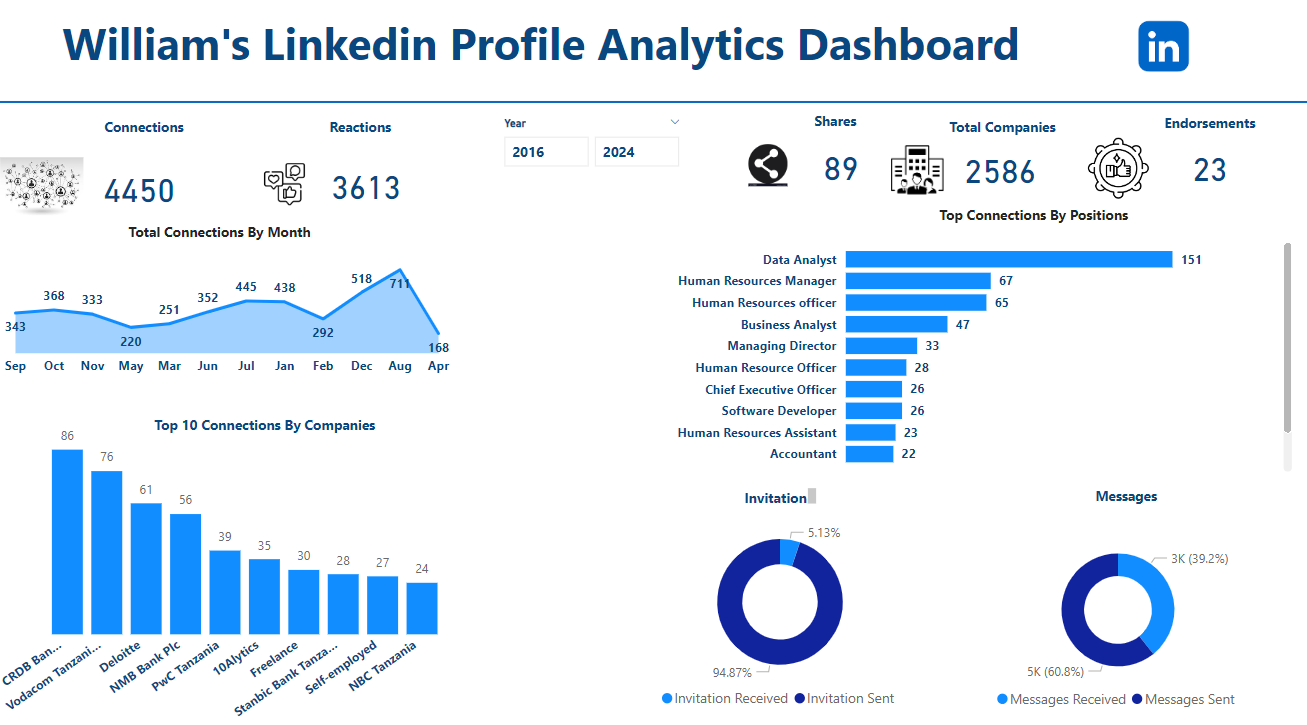

The page's visual inventory and layout, read from the dashboard file:
{"tool":"powerbi","page":{"name":"Page 1","canvas":[1280,720],"ordinal":0},"visuals":[{"type":"card","fields":{"Values":["All Measures.Total connetion"]},"box":[91.4,168.3,97.3,44.7],"z":0},{"type":"textbox","box":[0,15.6,1062.1,74.9],"z":1000},{"type":"textbox","box":[320,116.7,81.7,37.9],"z":2000},{"type":"shape","box":[0,90.5,1280,33.1],"z":3000},{"type":"textbox","box":[101.2,116.7,97.3,38.9],"z":4000},{"type":"image","box":[0,150.8,91.4,79.8],"z":5000},{"type":"card","fields":{"Values":["All Measures.Total Reaction"]},"box":[315.1,162.4,91.4,50.6],"z":6000},{"type":"image","box":[247.1,161.5,68.1,50.6],"z":7000},{"type":"image","box":[1007.7,6.8,258.7,92.4],"z":8000},{"type":"card","fields":{"Values":["All Measures.Total company"]},"box":[931.8,146.9,91.4,50.6],"z":9000},{"type":"card","fields":{"Values":["All Measures.Total share"]},"box":[777.1,144,91.4,50.6],"z":10000},{"type":"textbox","box":[923,116.7,121.6,32.1],"z":11000},{"type":"textbox","box":[791.7,110.9,62.2,36],"z":12000},{"type":"textbox","box":[1132.2,112.8,111.9,34],"z":13000},{"type":"areaChart","fields":{"Category":["Calendar.Month"],"Y":["All Measures.Total connetion"]},"box":[0,246.1,451.3,135.2],"z":14000},{"type":"card","fields":{"Values":["All Measures.ENDORSEMENT"]},"box":[1144.8,144,73.9,53.5],"z":15000},{"type":"textbox","box":[116.7,218.8,203.3,36],"z":16000},{"type":"barChart","fields":{"Category":["Connections.Position"],"Y":["All Measures.Total connetion"]},"box":[657.5,230.5,608.9,241.2],"z":17000},{"type":"textbox","box":[913.3,202.3,218.8,29.2],"z":18000},{"type":"clusteredColumnChart","fields":{"Category":["Connections.Company"],"Y":["All Measures.Total connetion"]},"box":[0,406.6,451.3,313.2],"z":19000},{"type":"textbox","box":[149.8,406.6,256.8,38.9],"z":20000},{"type":"donutChart","fields":{"Y":["All Measures.Invitation Received","All Measures.Invitation Sent"]},"box":[580.7,509.7,365.7,196.5],"z":21000},{"type":"donutChart","fields":{"Y":["All Measures.Messages Received","All Measures.Messages Sent"]},"box":[931.8,525.2,321,180.9],"z":22000},{"type":"image","box":[718.8,143,66.1,50.6],"z":22001},{"type":"image","box":[832.6,144,129.4,58.4],"z":22002},{"type":"image","box":[1044.6,133.3,95.3,75.9],"z":22003},{"type":"textbox","box":[723.6,477.6,79.8,32.1],"z":22004},{"type":"textbox","box":[1065,475.6,79.8,34],"z":22005},{"type":"slicer","fields":{"Values":["Calendar.Year"]},"box":[482.4,116.7,196.5,130.3],"z":22006}]}

Visuals, with their boxes in screenshot pixels (x1, y1, x2, y2), scaled from the page's 1280x720 canvas onto the 1307x725 screenshot:
card - All Measures.Total connetion: {"x1": 93, "y1": 169, "x2": 193, "y2": 214}
textbox: {"x1": 0, "y1": 16, "x2": 1085, "y2": 91}
textbox: {"x1": 327, "y1": 118, "x2": 410, "y2": 156}
shape: {"x1": 0, "y1": 91, "x2": 1306, "y2": 124}
textbox: {"x1": 103, "y1": 118, "x2": 203, "y2": 157}
image: {"x1": 0, "y1": 152, "x2": 93, "y2": 232}
card - All Measures.Total Reaction: {"x1": 322, "y1": 164, "x2": 415, "y2": 214}
image: {"x1": 252, "y1": 163, "x2": 322, "y2": 214}
image: {"x1": 1029, "y1": 7, "x2": 1293, "y2": 100}
card - All Measures.Total company: {"x1": 951, "y1": 148, "x2": 1045, "y2": 199}
card - All Measures.Total share: {"x1": 793, "y1": 145, "x2": 887, "y2": 196}
textbox: {"x1": 942, "y1": 118, "x2": 1067, "y2": 150}
textbox: {"x1": 808, "y1": 112, "x2": 872, "y2": 148}
textbox: {"x1": 1156, "y1": 114, "x2": 1270, "y2": 148}
areaChart - Calendar.Month x All Measures.Total connetion: {"x1": 0, "y1": 248, "x2": 461, "y2": 384}
card - All Measures.ENDORSEMENT: {"x1": 1169, "y1": 145, "x2": 1244, "y2": 199}
textbox: {"x1": 119, "y1": 220, "x2": 327, "y2": 257}
barChart - Connections.Position x All Measures.Total connetion: {"x1": 671, "y1": 232, "x2": 1293, "y2": 475}
textbox: {"x1": 933, "y1": 204, "x2": 1156, "y2": 233}
clusteredColumnChart - Connections.Company x All Measures.Total connetion: {"x1": 0, "y1": 409, "x2": 461, "y2": 724}
textbox: {"x1": 153, "y1": 409, "x2": 415, "y2": 449}
donutChart - All Measures.Invitation Received x All Measures.Invitation Sent: {"x1": 593, "y1": 513, "x2": 966, "y2": 711}
donutChart - All Measures.Messages Received x All Measures.Messages Sent: {"x1": 951, "y1": 529, "x2": 1279, "y2": 711}
image: {"x1": 734, "y1": 144, "x2": 801, "y2": 195}
image: {"x1": 850, "y1": 145, "x2": 982, "y2": 204}
image: {"x1": 1067, "y1": 134, "x2": 1164, "y2": 211}
textbox: {"x1": 739, "y1": 481, "x2": 820, "y2": 513}
textbox: {"x1": 1087, "y1": 479, "x2": 1169, "y2": 513}
slicer - Calendar.Year: {"x1": 493, "y1": 118, "x2": 693, "y2": 249}
